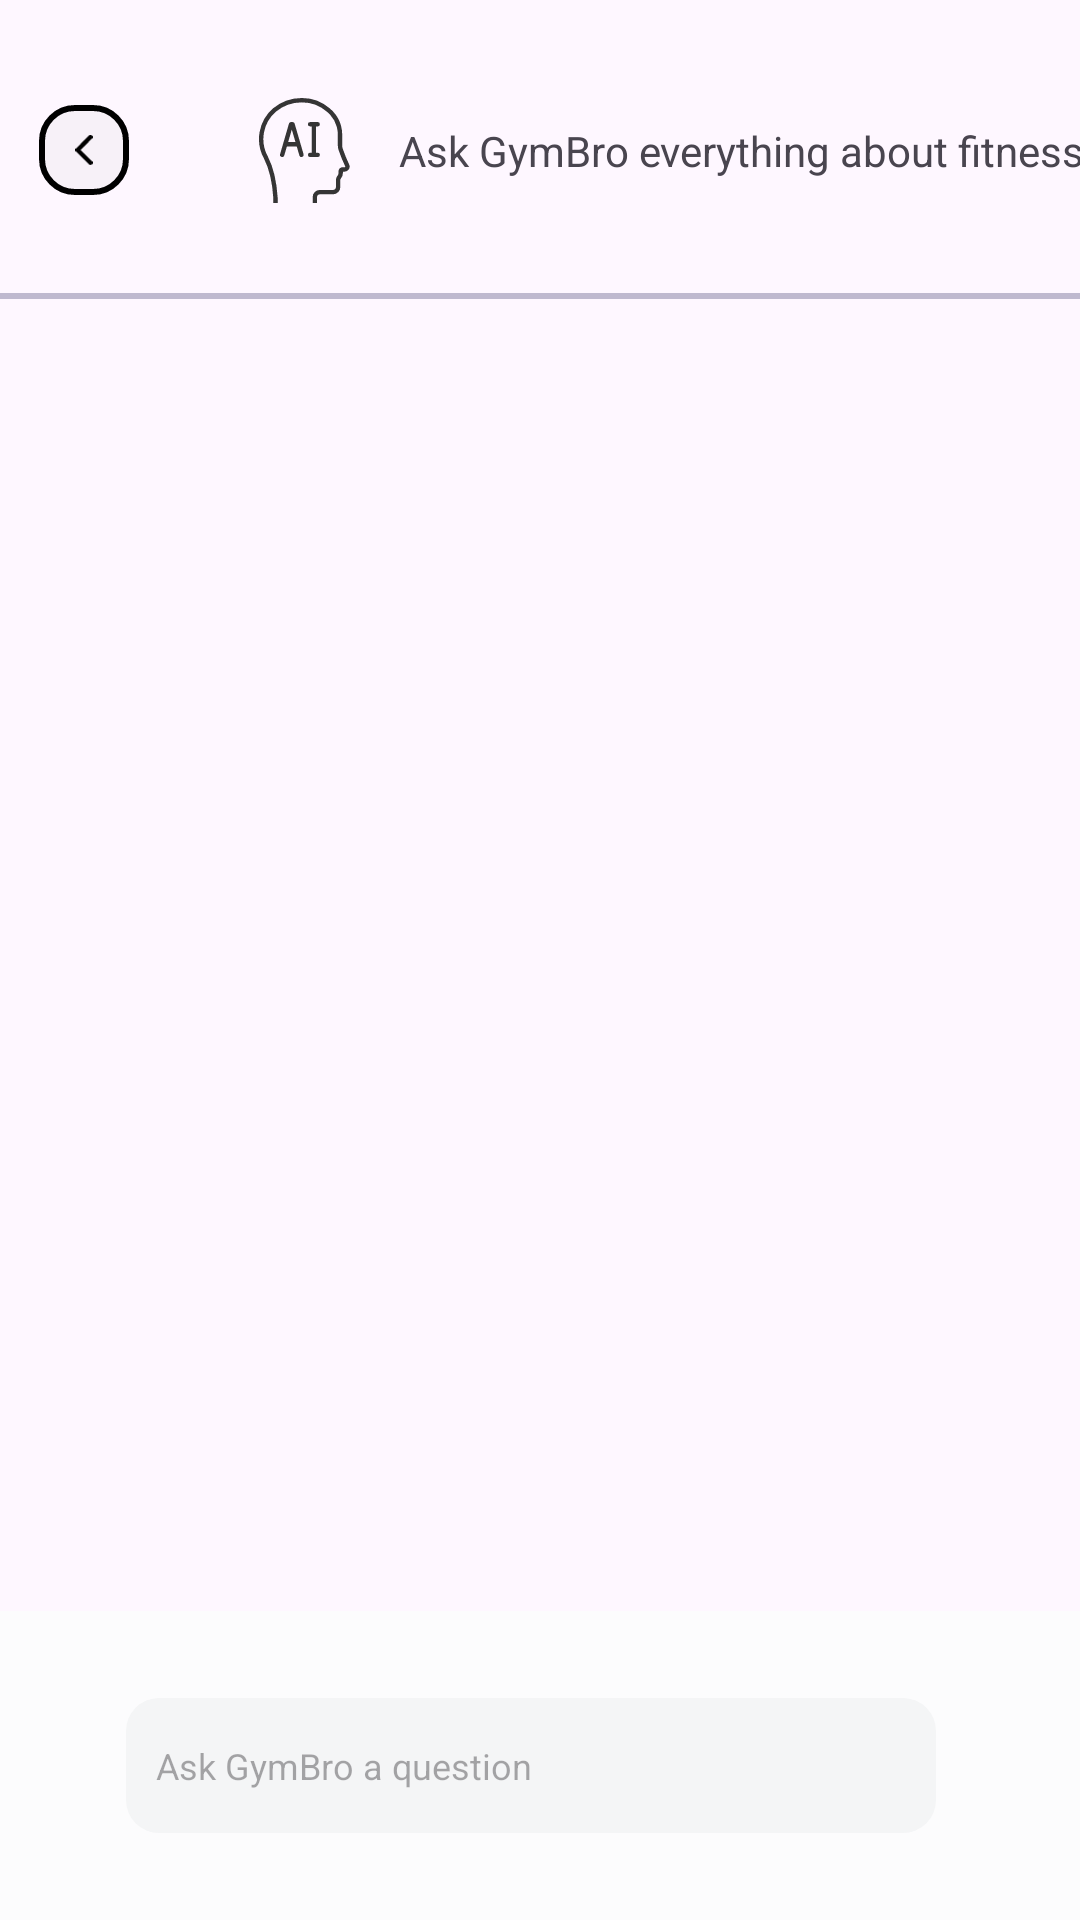

Locate icon controls on the screen. Image size 1080px×1920px, boxes as (x1, y1, x2, y2).
arrow back: (39, 105, 129, 195)
